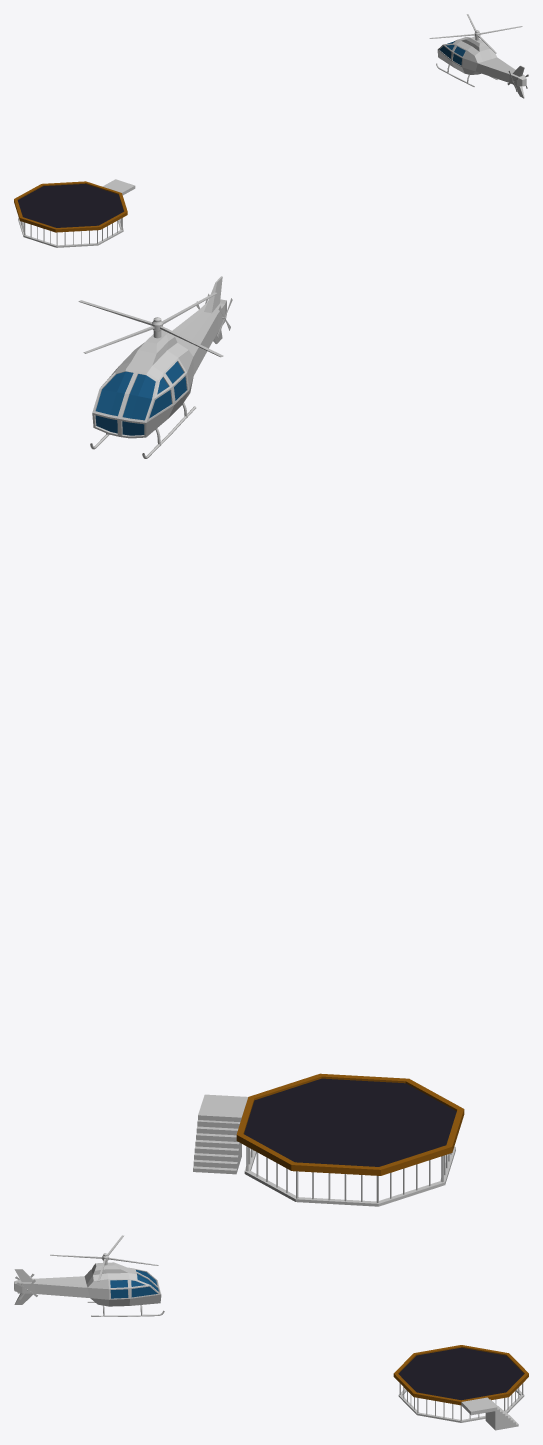
File: copter_000114.obj
The picture shows the model from 3 angles, top to bottom: view 1: azimuth 30°, elevation 25°; view 2: azimuth 150°, elevation 25°; view 3: azimuth 270°, elevation 25°; orthographic projection. The views are drawn at different scales.
Visible parts, largest first — view 1: Cylinder.001_Cylinder.012, Helicopter.007_Cylinder.008, Helicopter.001_Cylinder.001; view 2: Cylinder.001_Cylinder.012, Helicopter.007_Cylinder.008, Helicopter.001_Cylinder.001; view 3: Cylinder.001_Cylinder.012, Helicopter.007_Cylinder.008, Helicopter.001_Cylinder.001.
Part boxes in pixels (left/top/right/bottom): Cylinder.001_Cylinder.012: left=14, top=179, right=135, bottom=247; Helicopter.007_Cylinder.008: left=436, top=36, right=526, bottom=98; Helicopter.001_Cylinder.001: left=429, top=14, right=522, bottom=53; Cylinder.001_Cylinder.012: left=193, top=1073, right=464, bottom=1206; Helicopter.007_Cylinder.008: left=90, top=276, right=226, bottom=458; Helicopter.001_Cylinder.001: left=78, top=292, right=223, bottom=357; Cylinder.001_Cylinder.012: left=393, top=1345, right=528, bottom=1430; Helicopter.007_Cylinder.008: left=14, top=1262, right=164, bottom=1316; Helicopter.001_Cylinder.001: left=50, top=1235, right=158, bottom=1281.
Size of the model in its own units: 22.85 by 15.68 by 25.79.
